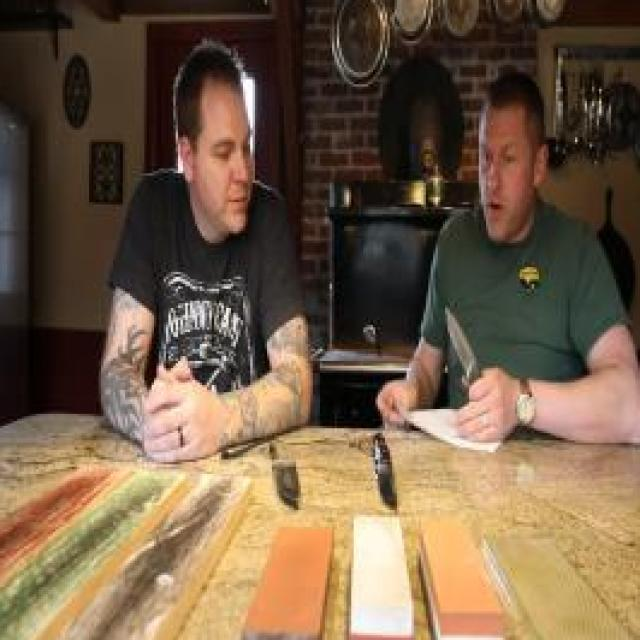knife: (435, 286, 509, 444)
